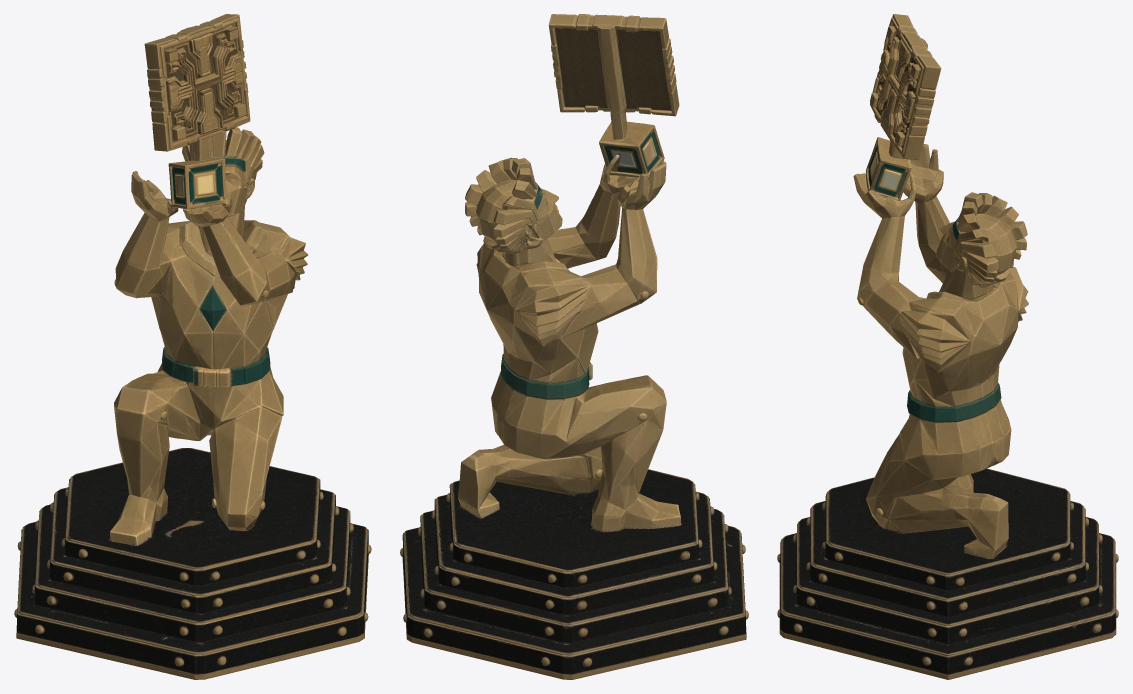
The model's file is innovation-kneeling.glb.
3 renders of one model, left to right at view 1: azimuth 30°, elevation 25°; view 2: azimuth 150°, elevation 25°; view 3: azimuth 270°, elevation 25°, orthographic. The views are drawn at different scales.
Bounding box in the file's own units: 1.19 × 1.9 × 1.06.
Materials: 1 (1 with a texture image).
